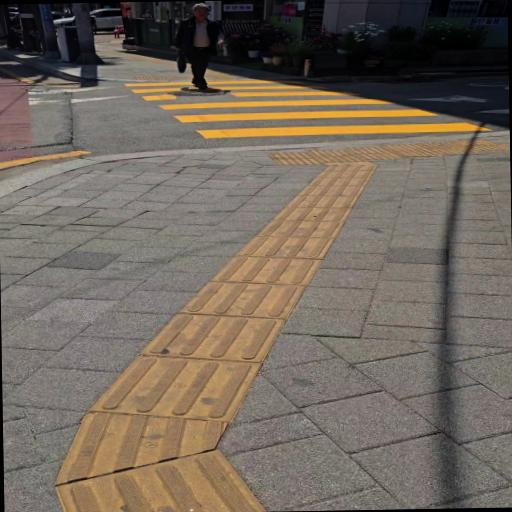yellow-crosswalk: (102, 64, 507, 146)
